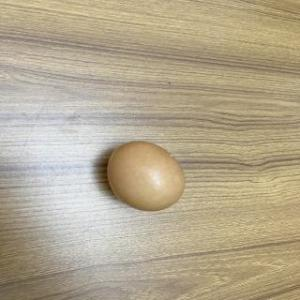egg: (102, 140, 192, 214)
